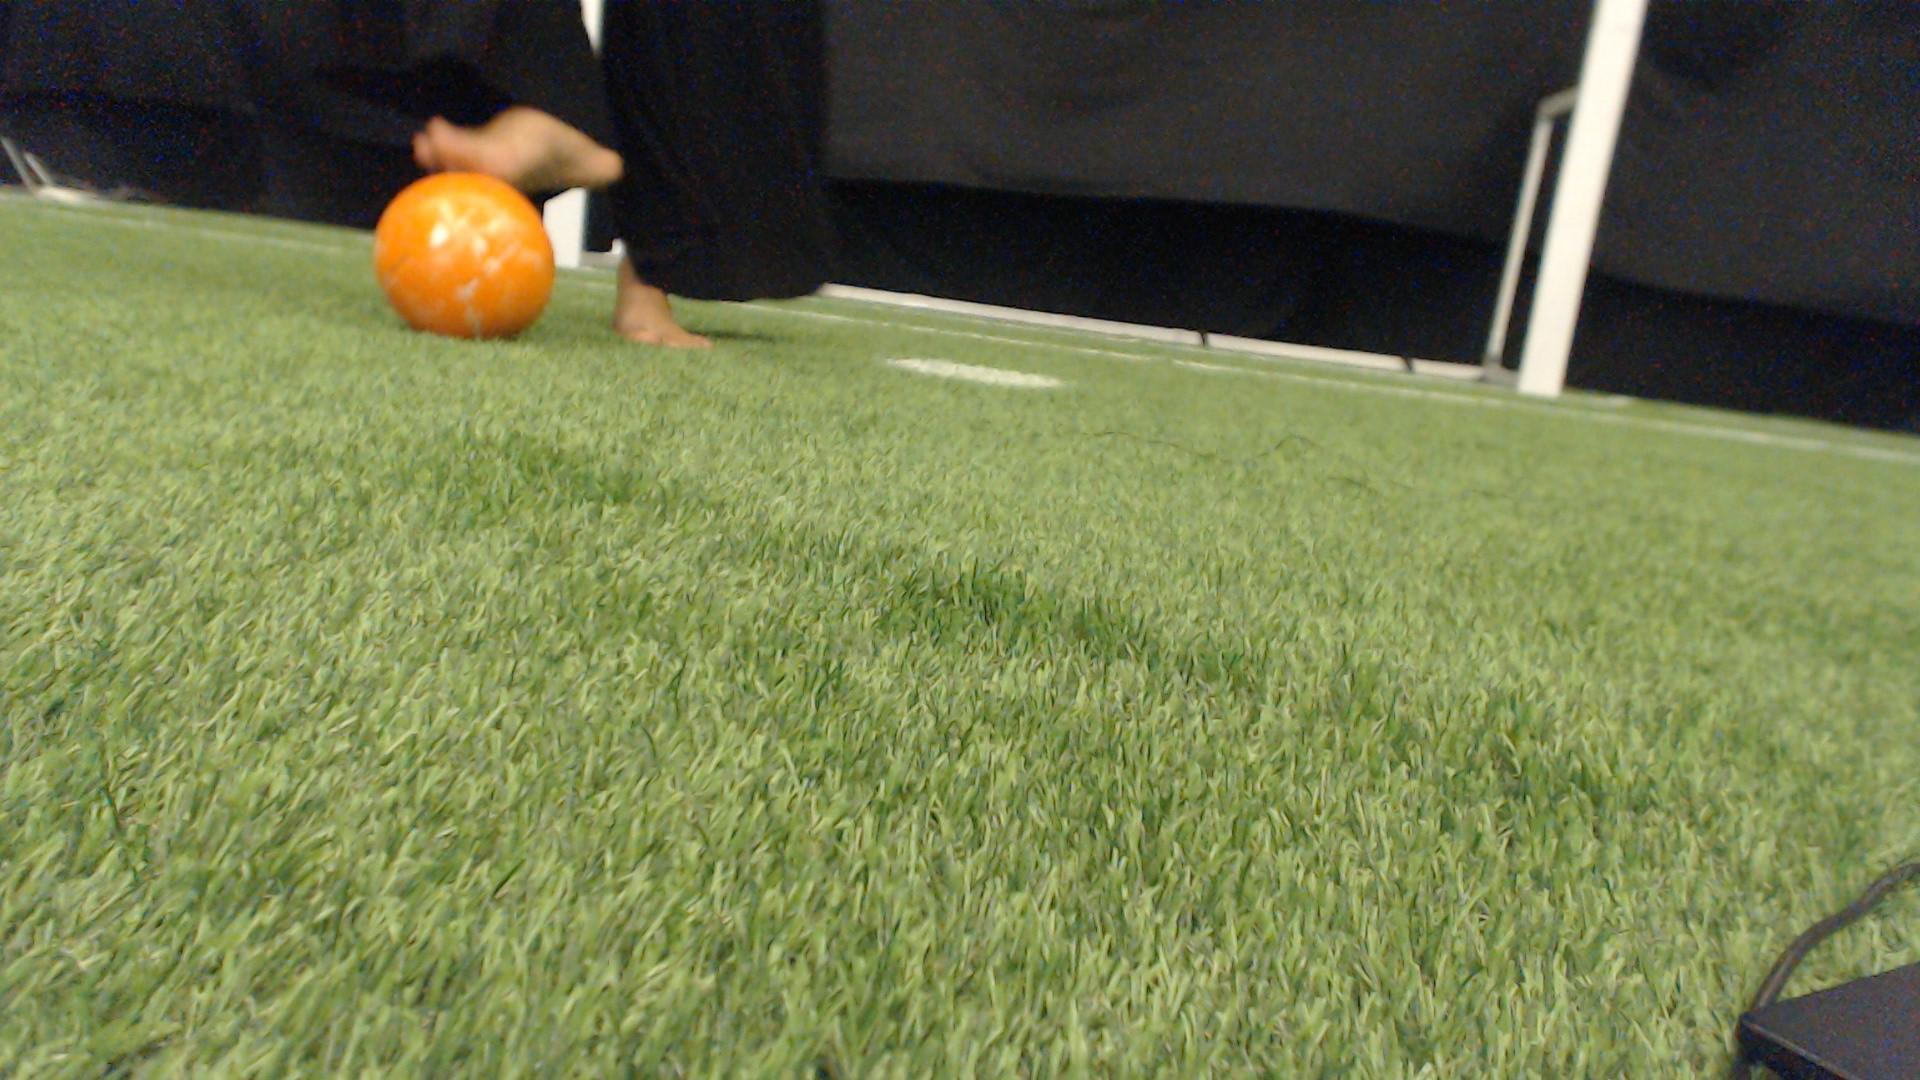bola: (351, 149, 593, 353)
